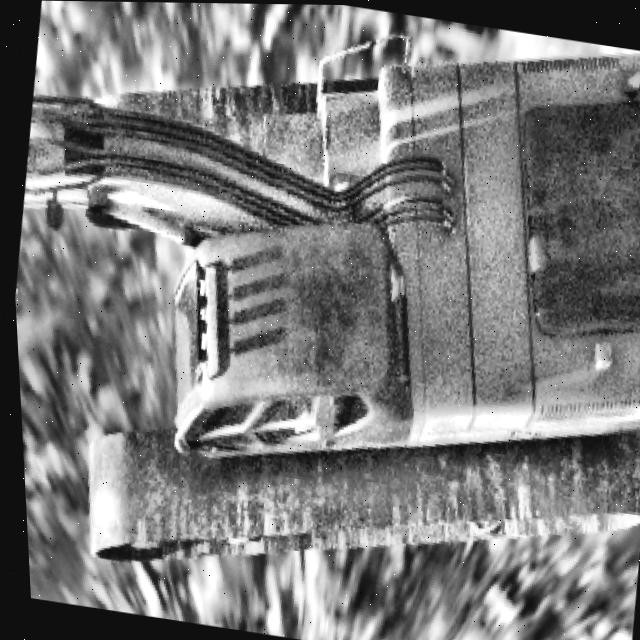excavator: (0, 0, 640, 636)
